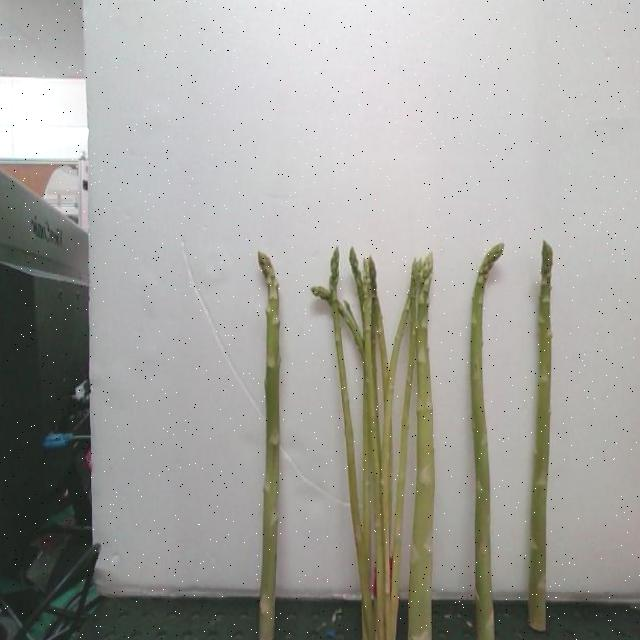aspargus: (471, 246, 505, 640), (529, 244, 555, 632), (261, 255, 284, 640)
